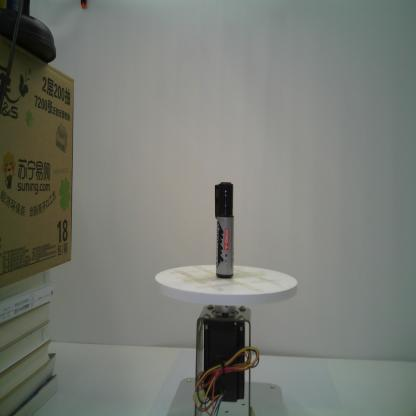Stationery: (214, 181, 235, 279)
